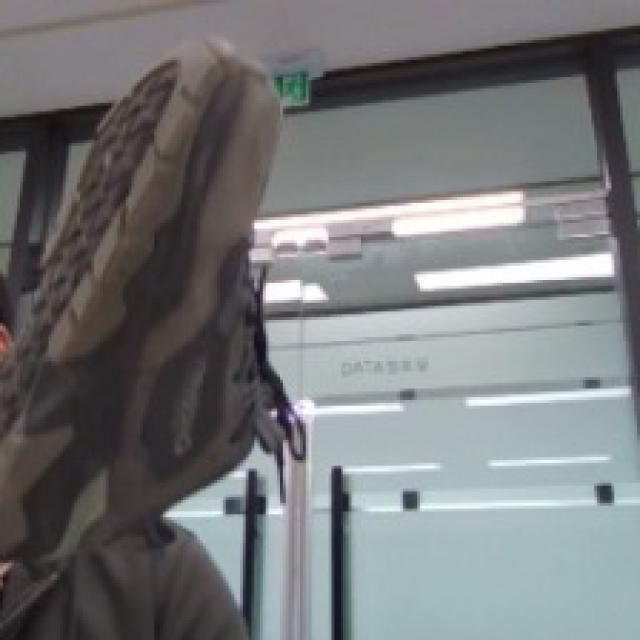shoe: (0, 28, 313, 625)
